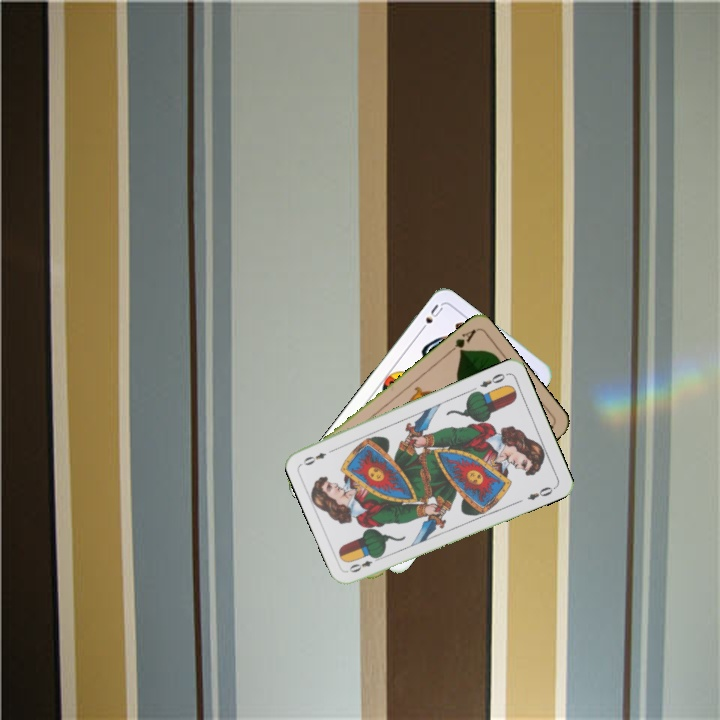EO: (345, 552, 383, 575), (476, 369, 508, 390)
GA: (444, 325, 478, 356)
SU: (415, 300, 446, 335)
